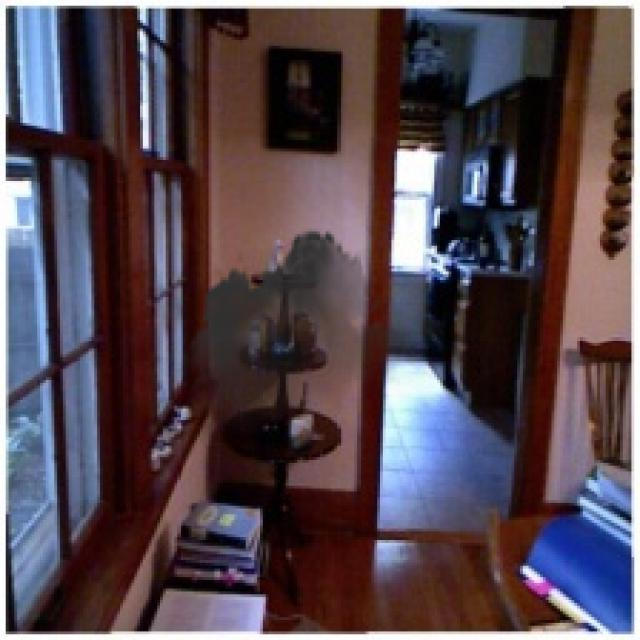Smoke: (183, 220, 414, 460)
